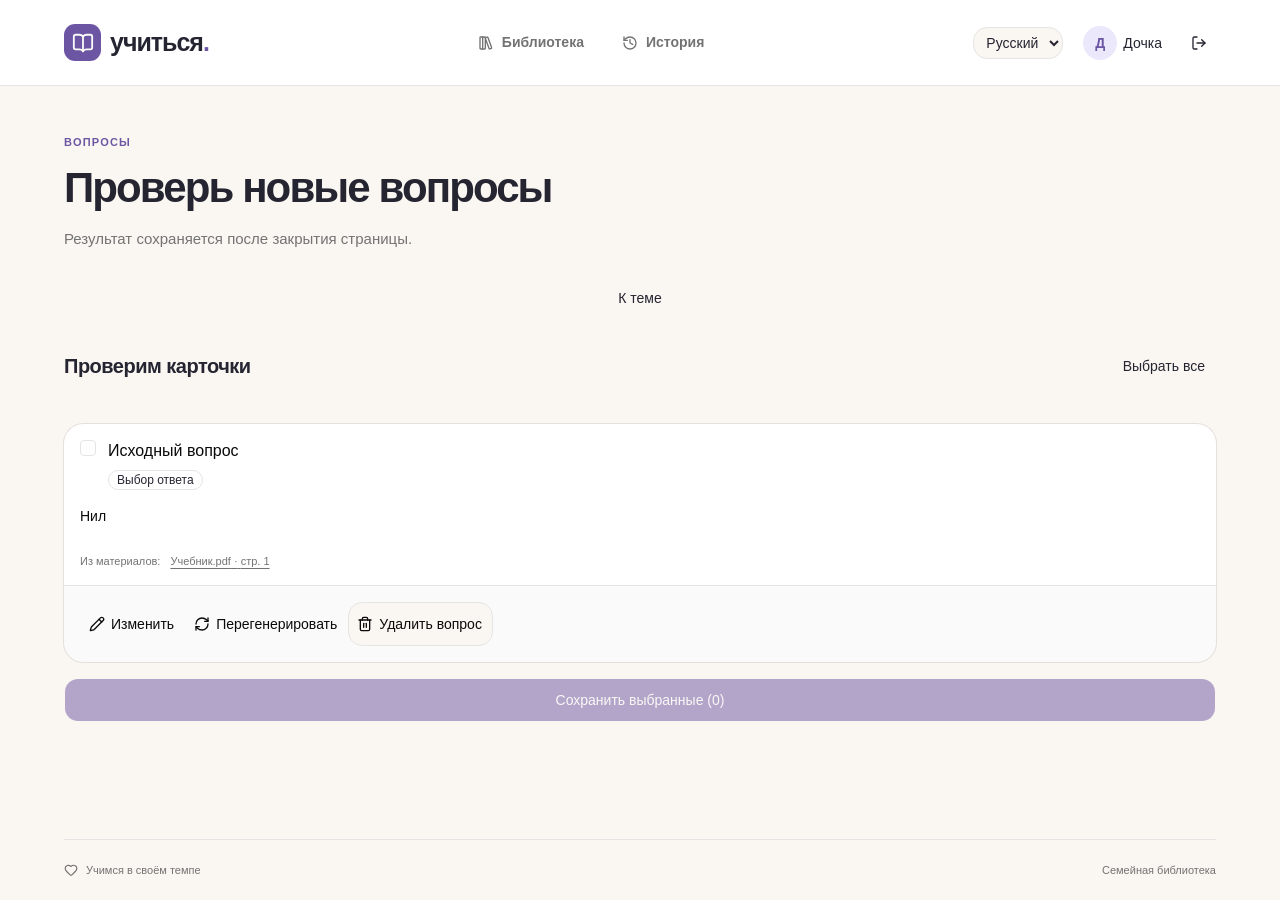
Test case: edits a generated draft and saves only selected cards
The width and height of the screenshot is (1280, 900).
Click the button with aria-label "Изменить карточку" at coordinates (133, 624), box [80, 602, 185, 646]
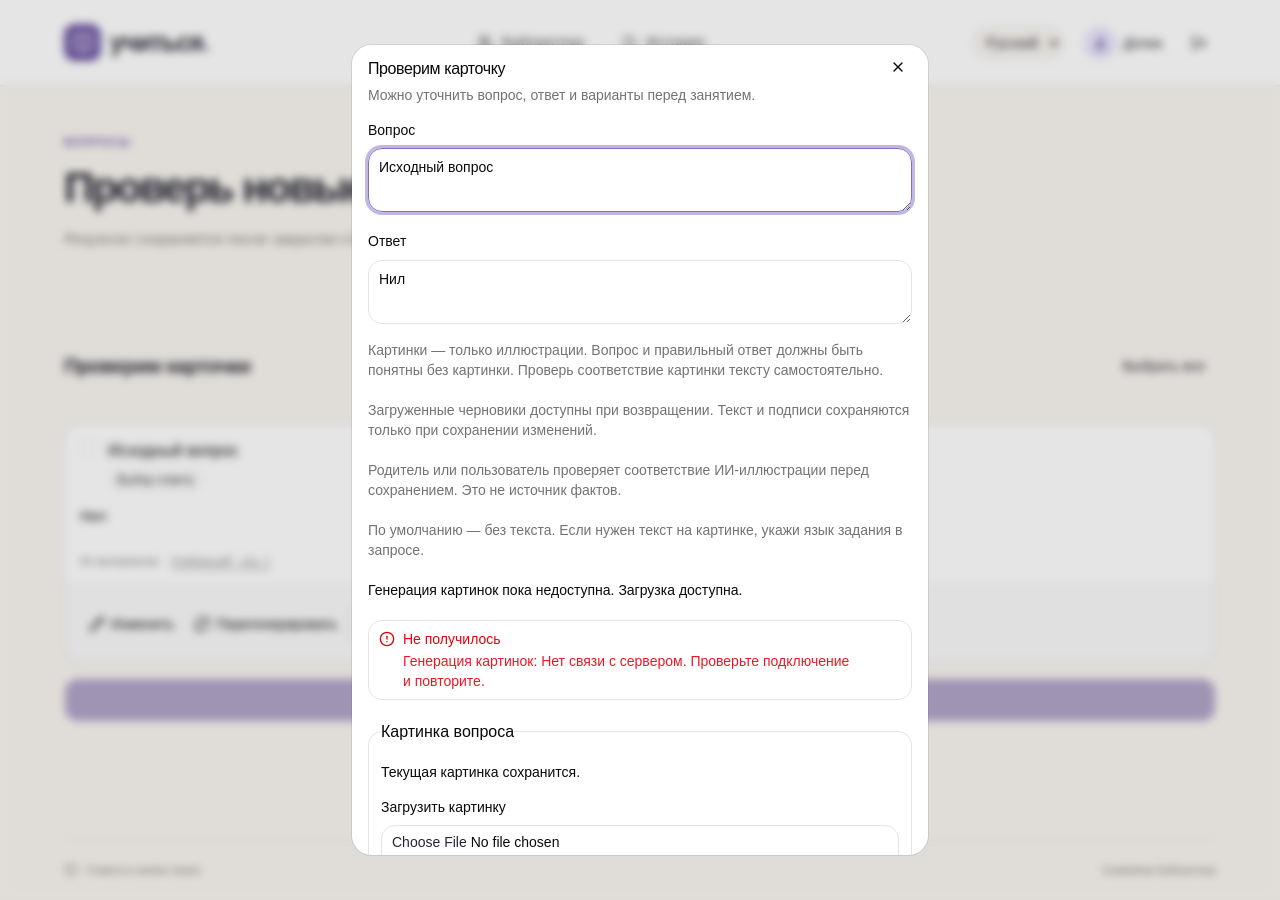
Replace the text in the text box labelled "Вопрос" with "Главная река Египта?" at coordinates (640, 180), box [368, 148, 912, 212]
(page scrolled)
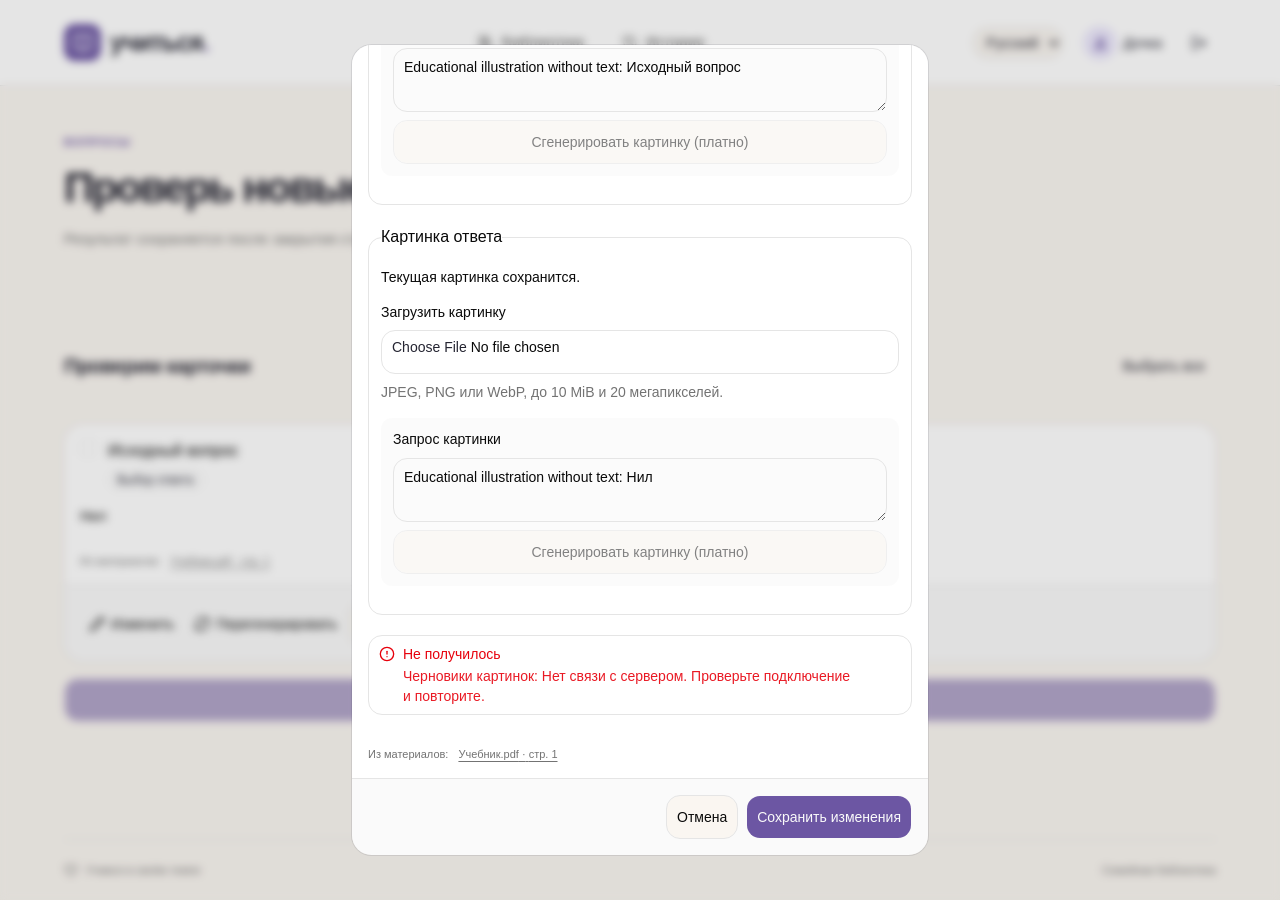
Click the button "Сохранить изменения" at coordinates (829, 817), box [746, 795, 912, 839]
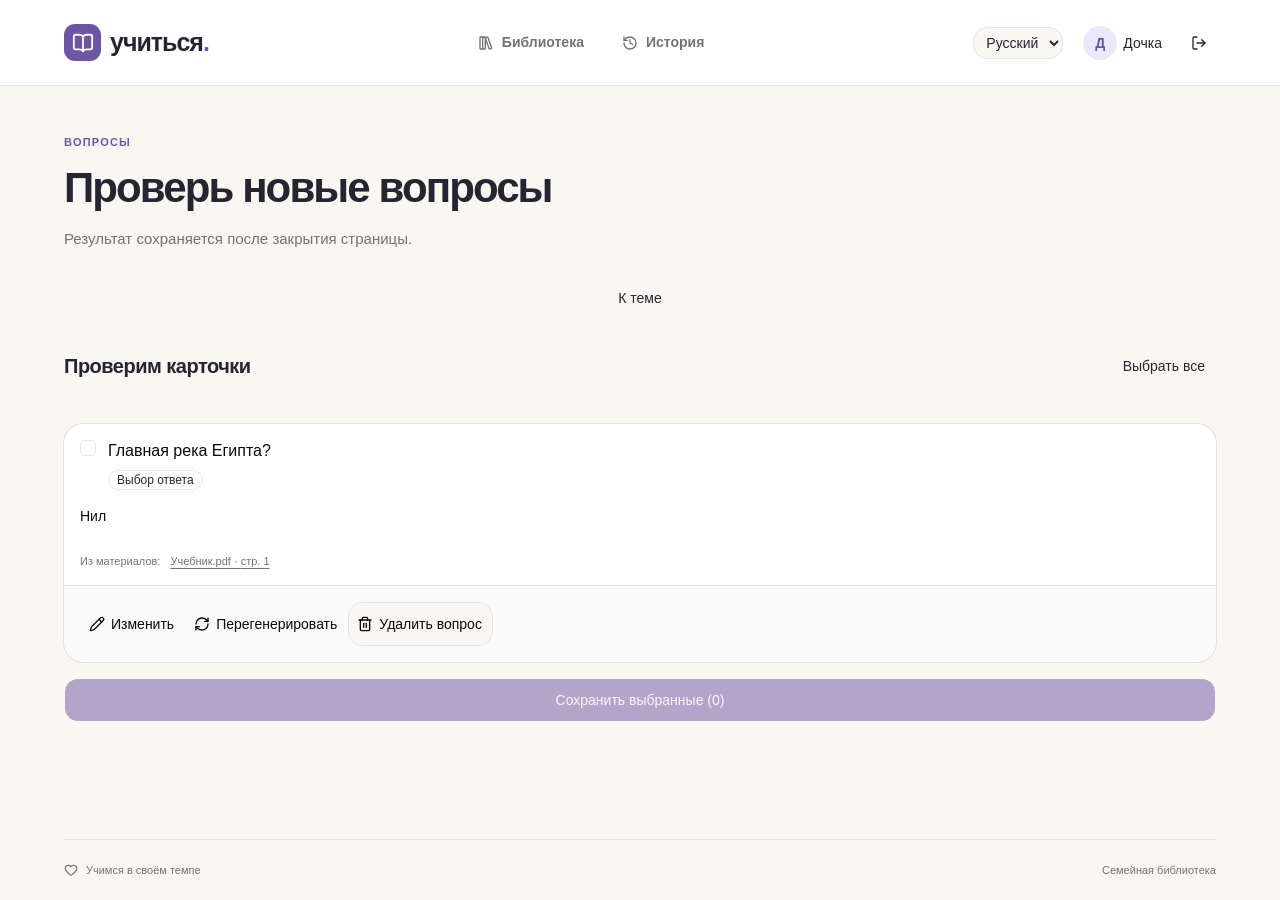
Now the text "Главная река Египта?" is shown, box [108, 440, 271, 462]
Click the checkbox named "Выбрать: Главная река Египта?" at coordinates (88, 448), box [80, 440, 96, 456]
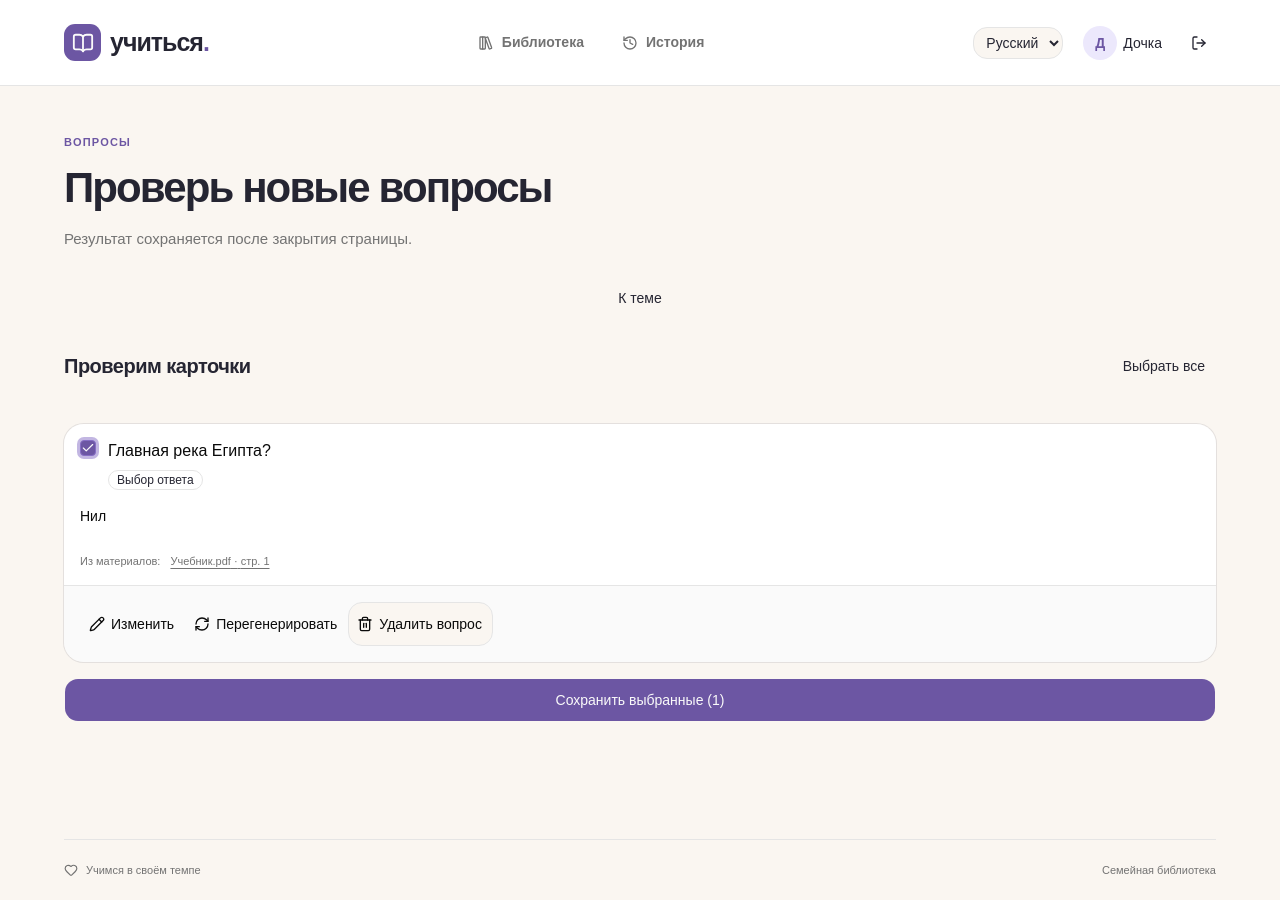
Click the button "Сохранить выбранные (1)" at coordinates (640, 700), box [64, 678, 1216, 722]
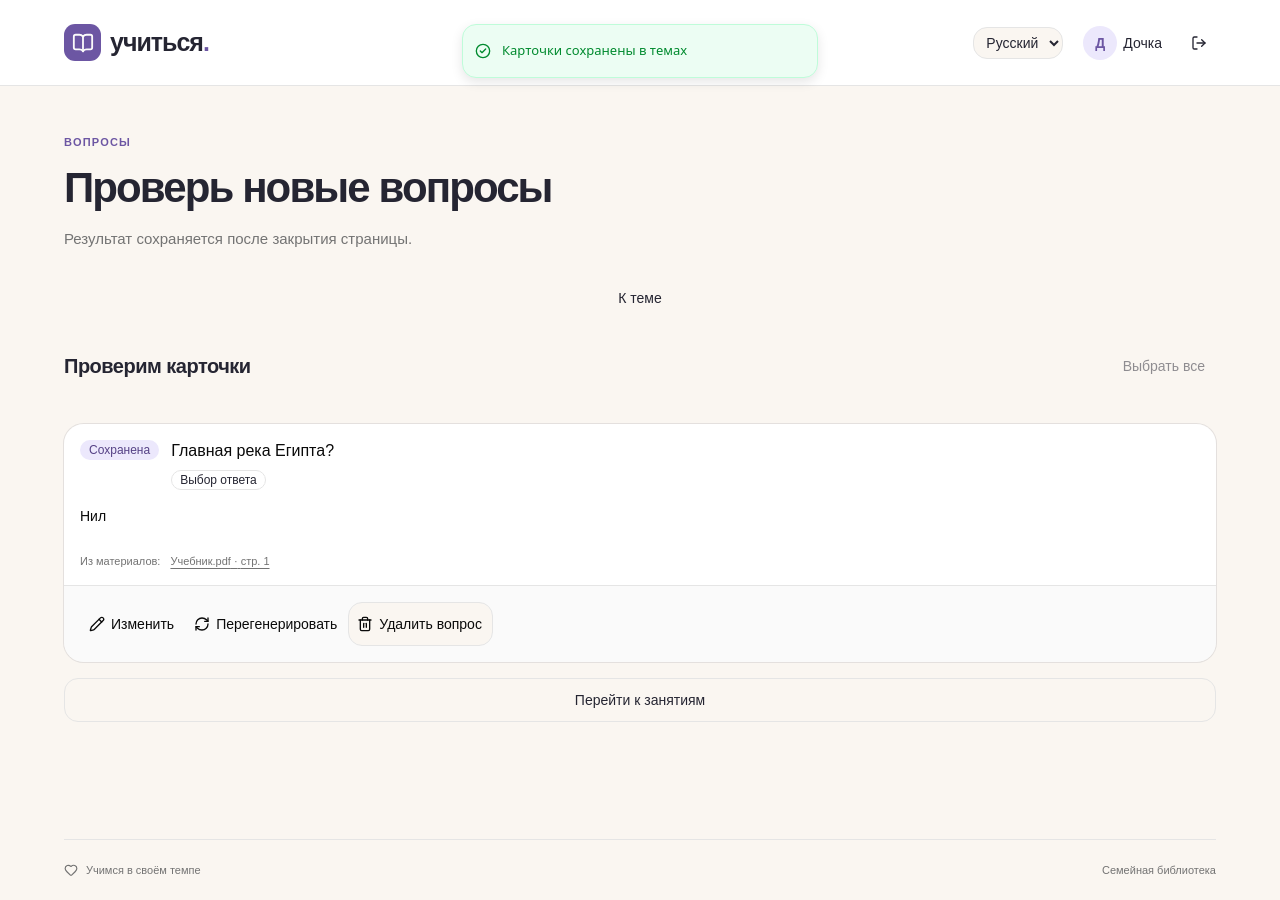
Now the text "Сохранена" is shown, box [80, 440, 159, 460]
